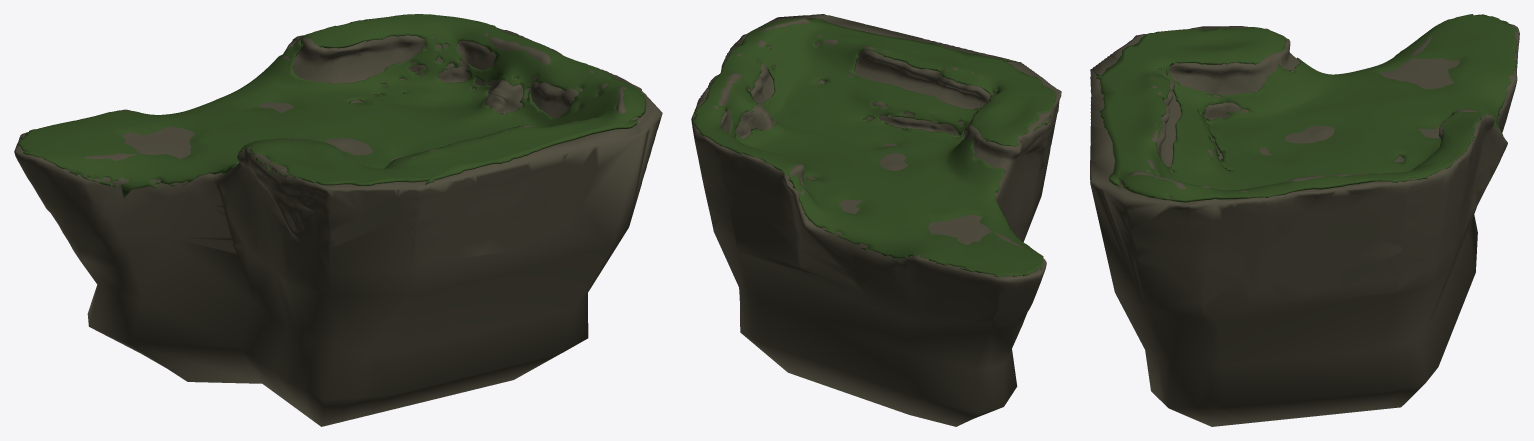
File: Terrain.fbx
3 views of the same model, side by side, from view 1: azimuth 30°, elevation 25°; view 2: azimuth 150°, elevation 25°; view 3: azimuth 270°, elevation 25° (orthographic). The views are drawn at different scales.
Visible parts, largest first — view 1: Cube, Cube.001; view 2: Cube, Cube.001; view 3: Cube, Cube.001.
Part boxes in pixels (x1,y1,x2,y2): Cube: [14, 23, 662, 426]; Cube.001: [18, 14, 646, 201]; Cube: [691, 14, 1061, 426]; Cube.001: [692, 18, 1056, 277]; Cube: [1090, 14, 1519, 426]; Cube.001: [1094, 14, 1517, 202].
Bounding box in the file's own units: 92823 × 52042 × 69468.
